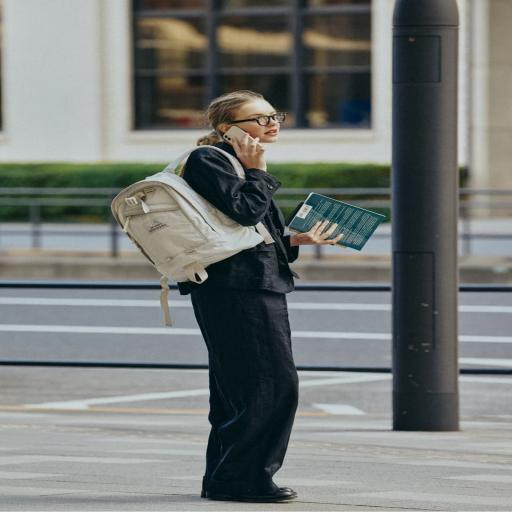crosswalk: (110, 92, 346, 505)
curb: (216, 127, 269, 155)
door: (111, 145, 281, 329)
elevator: (384, 0, 476, 435)
